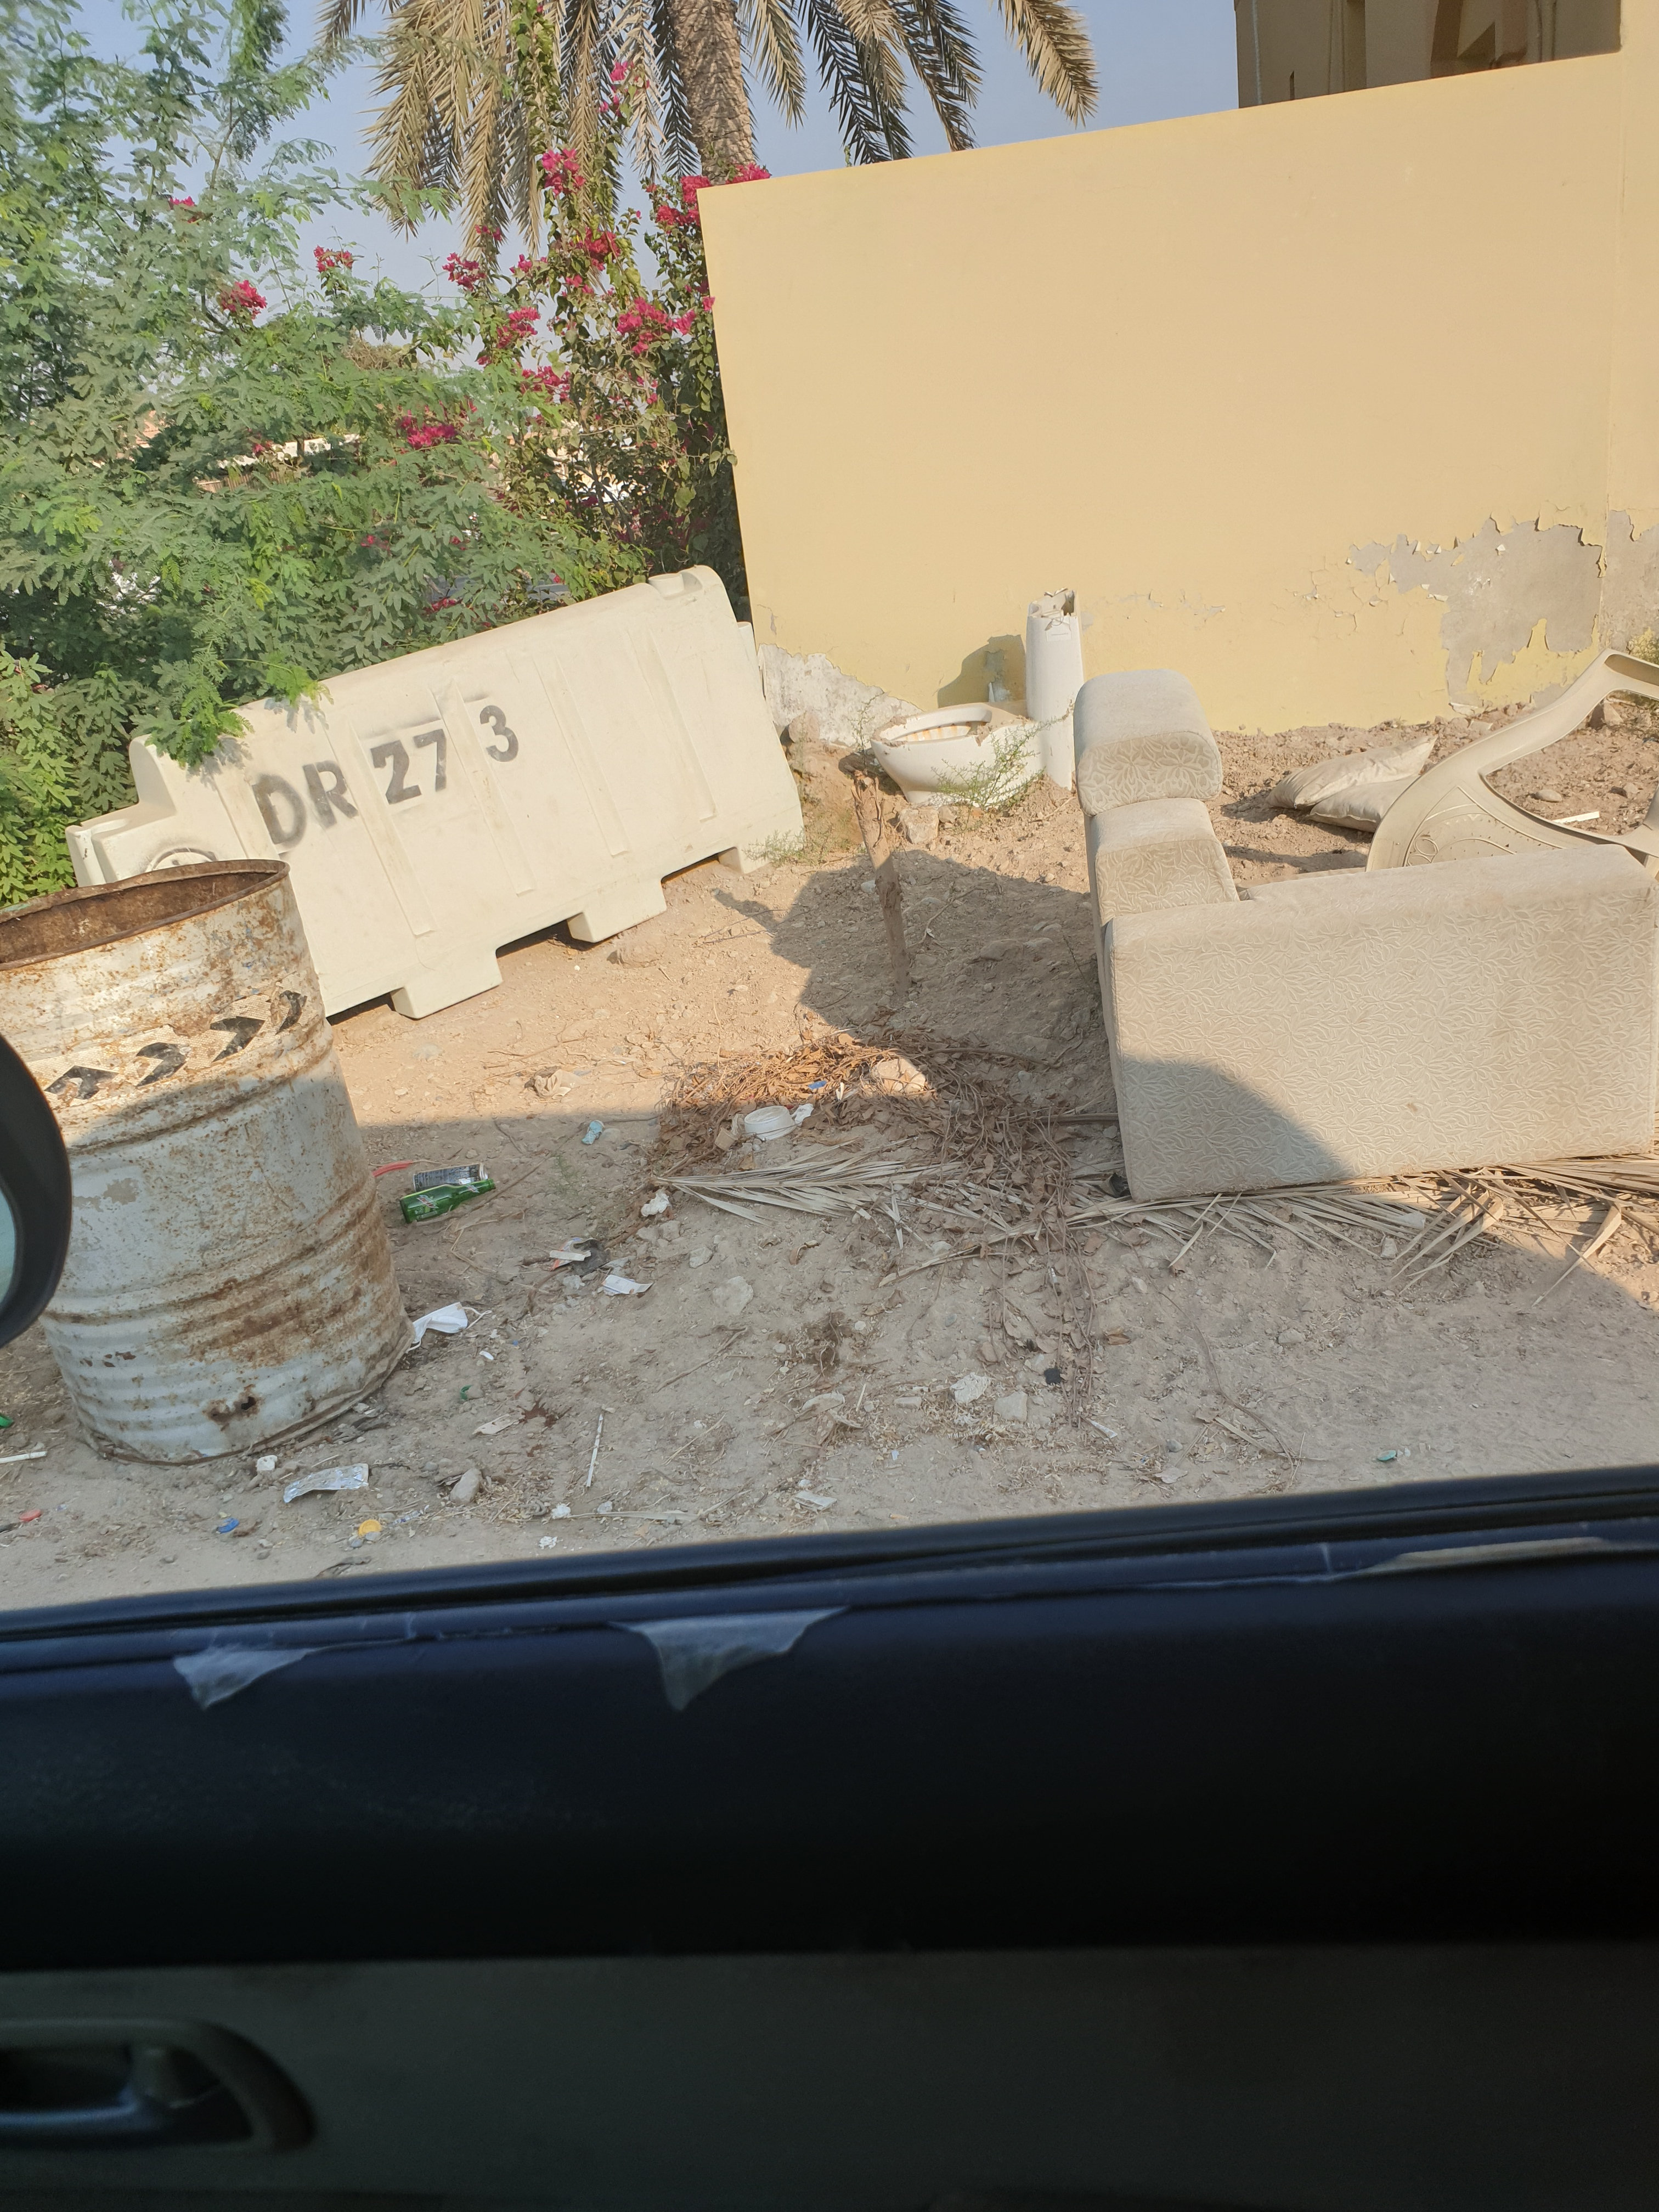fallen_trees: (694, 1143, 1122, 1280)
uncollected_waste: (1002, 725, 1659, 1247)
